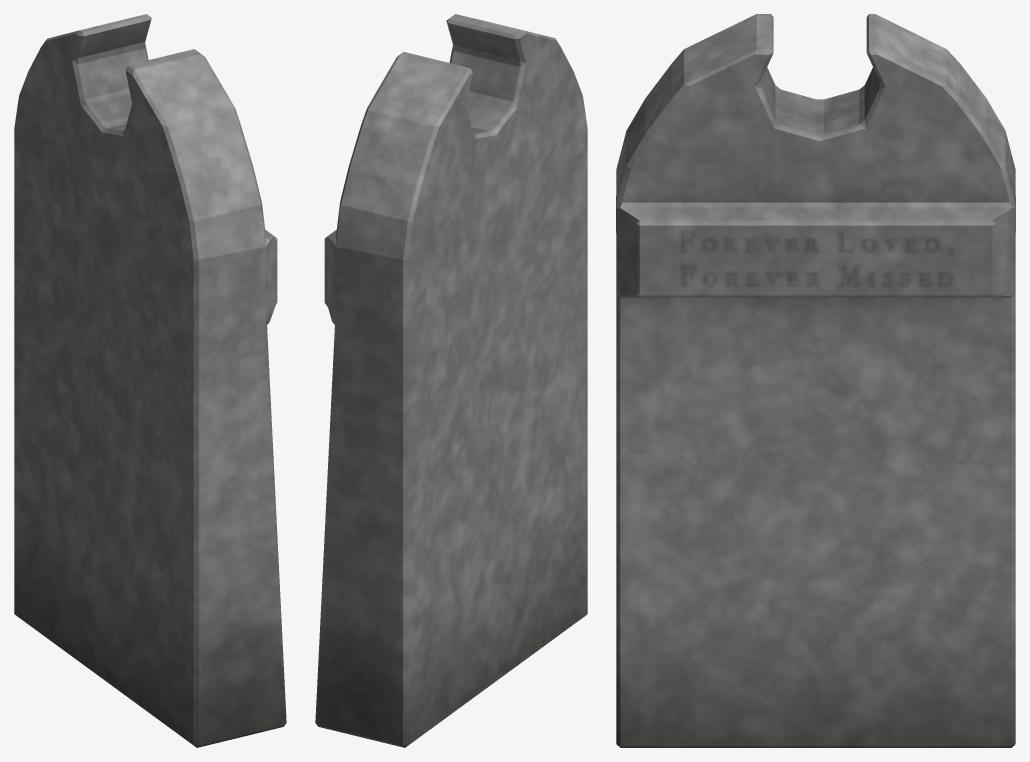
The model's file is Grave_3.fbx.
The picture shows the model from 3 angles, left to right: view 1: azimuth 30°, elevation 25°; view 2: azimuth 150°, elevation 25°; view 3: azimuth 270°, elevation 25°; orthographic projection. The views are drawn at different scales.
Parts seen in each view (by area): view 1: Grave_3_LOD0; view 2: Grave_3_LOD0; view 3: Grave_3_LOD0.
Boxes of the visible parts, bbox=[...] form: Grave_3_LOD0: bbox=[14, 14, 286, 747]; Grave_3_LOD0: bbox=[315, 14, 587, 747]; Grave_3_LOD0: bbox=[616, 14, 1015, 747].
Size of what is drawn, in the model's own units: 62.56 by 407 by 215.
